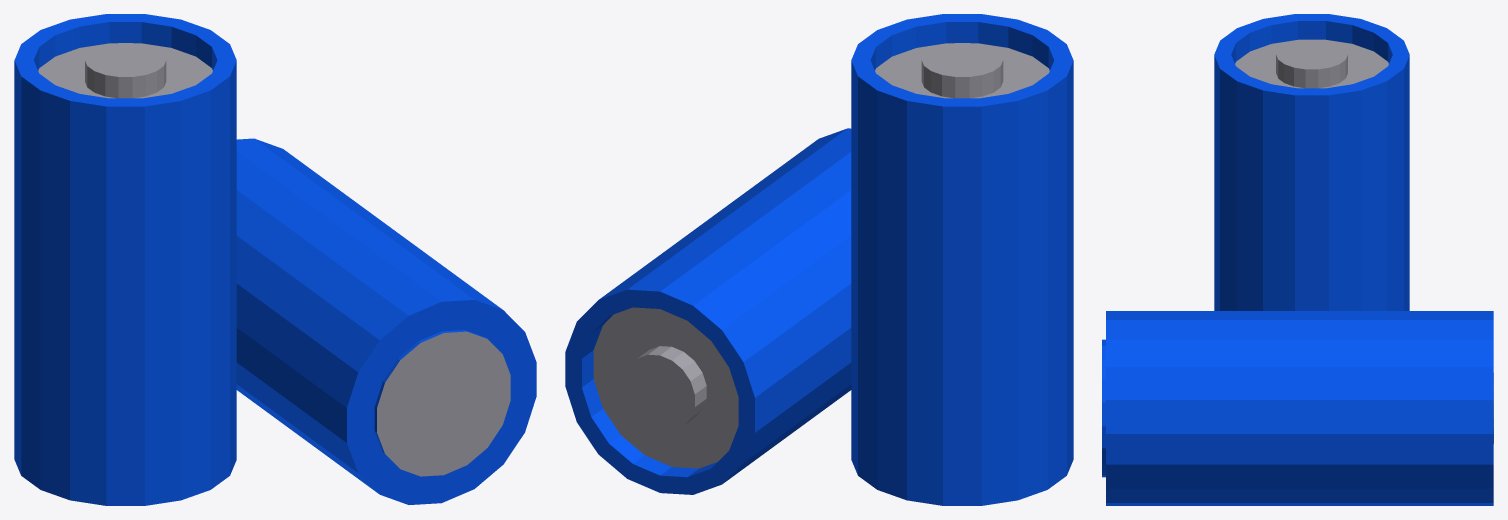
The model's file is Baettery_Textured_Baked.fbx.
3 renders of one model, left to right at view 1: azimuth 30°, elevation 25°; view 2: azimuth 150°, elevation 25°; view 3: azimuth 270°, elevation 25°, orthographic. The views are drawn at different scales.
Parts seen in each view (by area): view 1: Battery; view 2: Battery; view 3: Battery.
Part boxes in pixels (bbox=[...]): Battery: bbox=[14, 14, 536, 505]; Battery: bbox=[565, 14, 1073, 505]; Battery: bbox=[1102, 14, 1493, 505].
Bounding box in the file's own units: 8.1 × 8.09 × 8.04.
